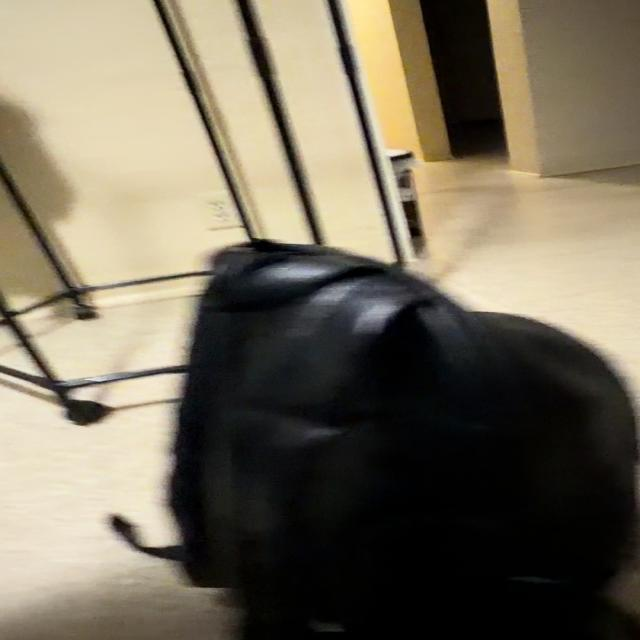backpack: (112, 241, 636, 639), (520, 609, 530, 615), (513, 633, 520, 637), (486, 630, 491, 633), (494, 626, 496, 631), (421, 630, 425, 632), (414, 629, 417, 631), (388, 631, 392, 632), (520, 620, 522, 622), (434, 632, 434, 632), (332, 627, 332, 628)
